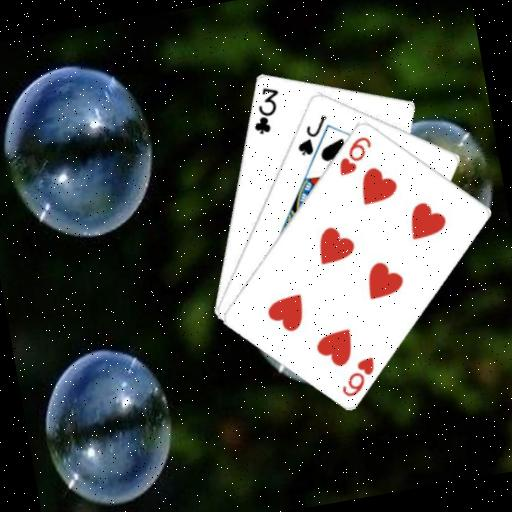3C: (244, 81, 287, 137)
6H: (333, 352, 380, 399), (330, 132, 377, 178)
JS: (289, 110, 334, 158)
